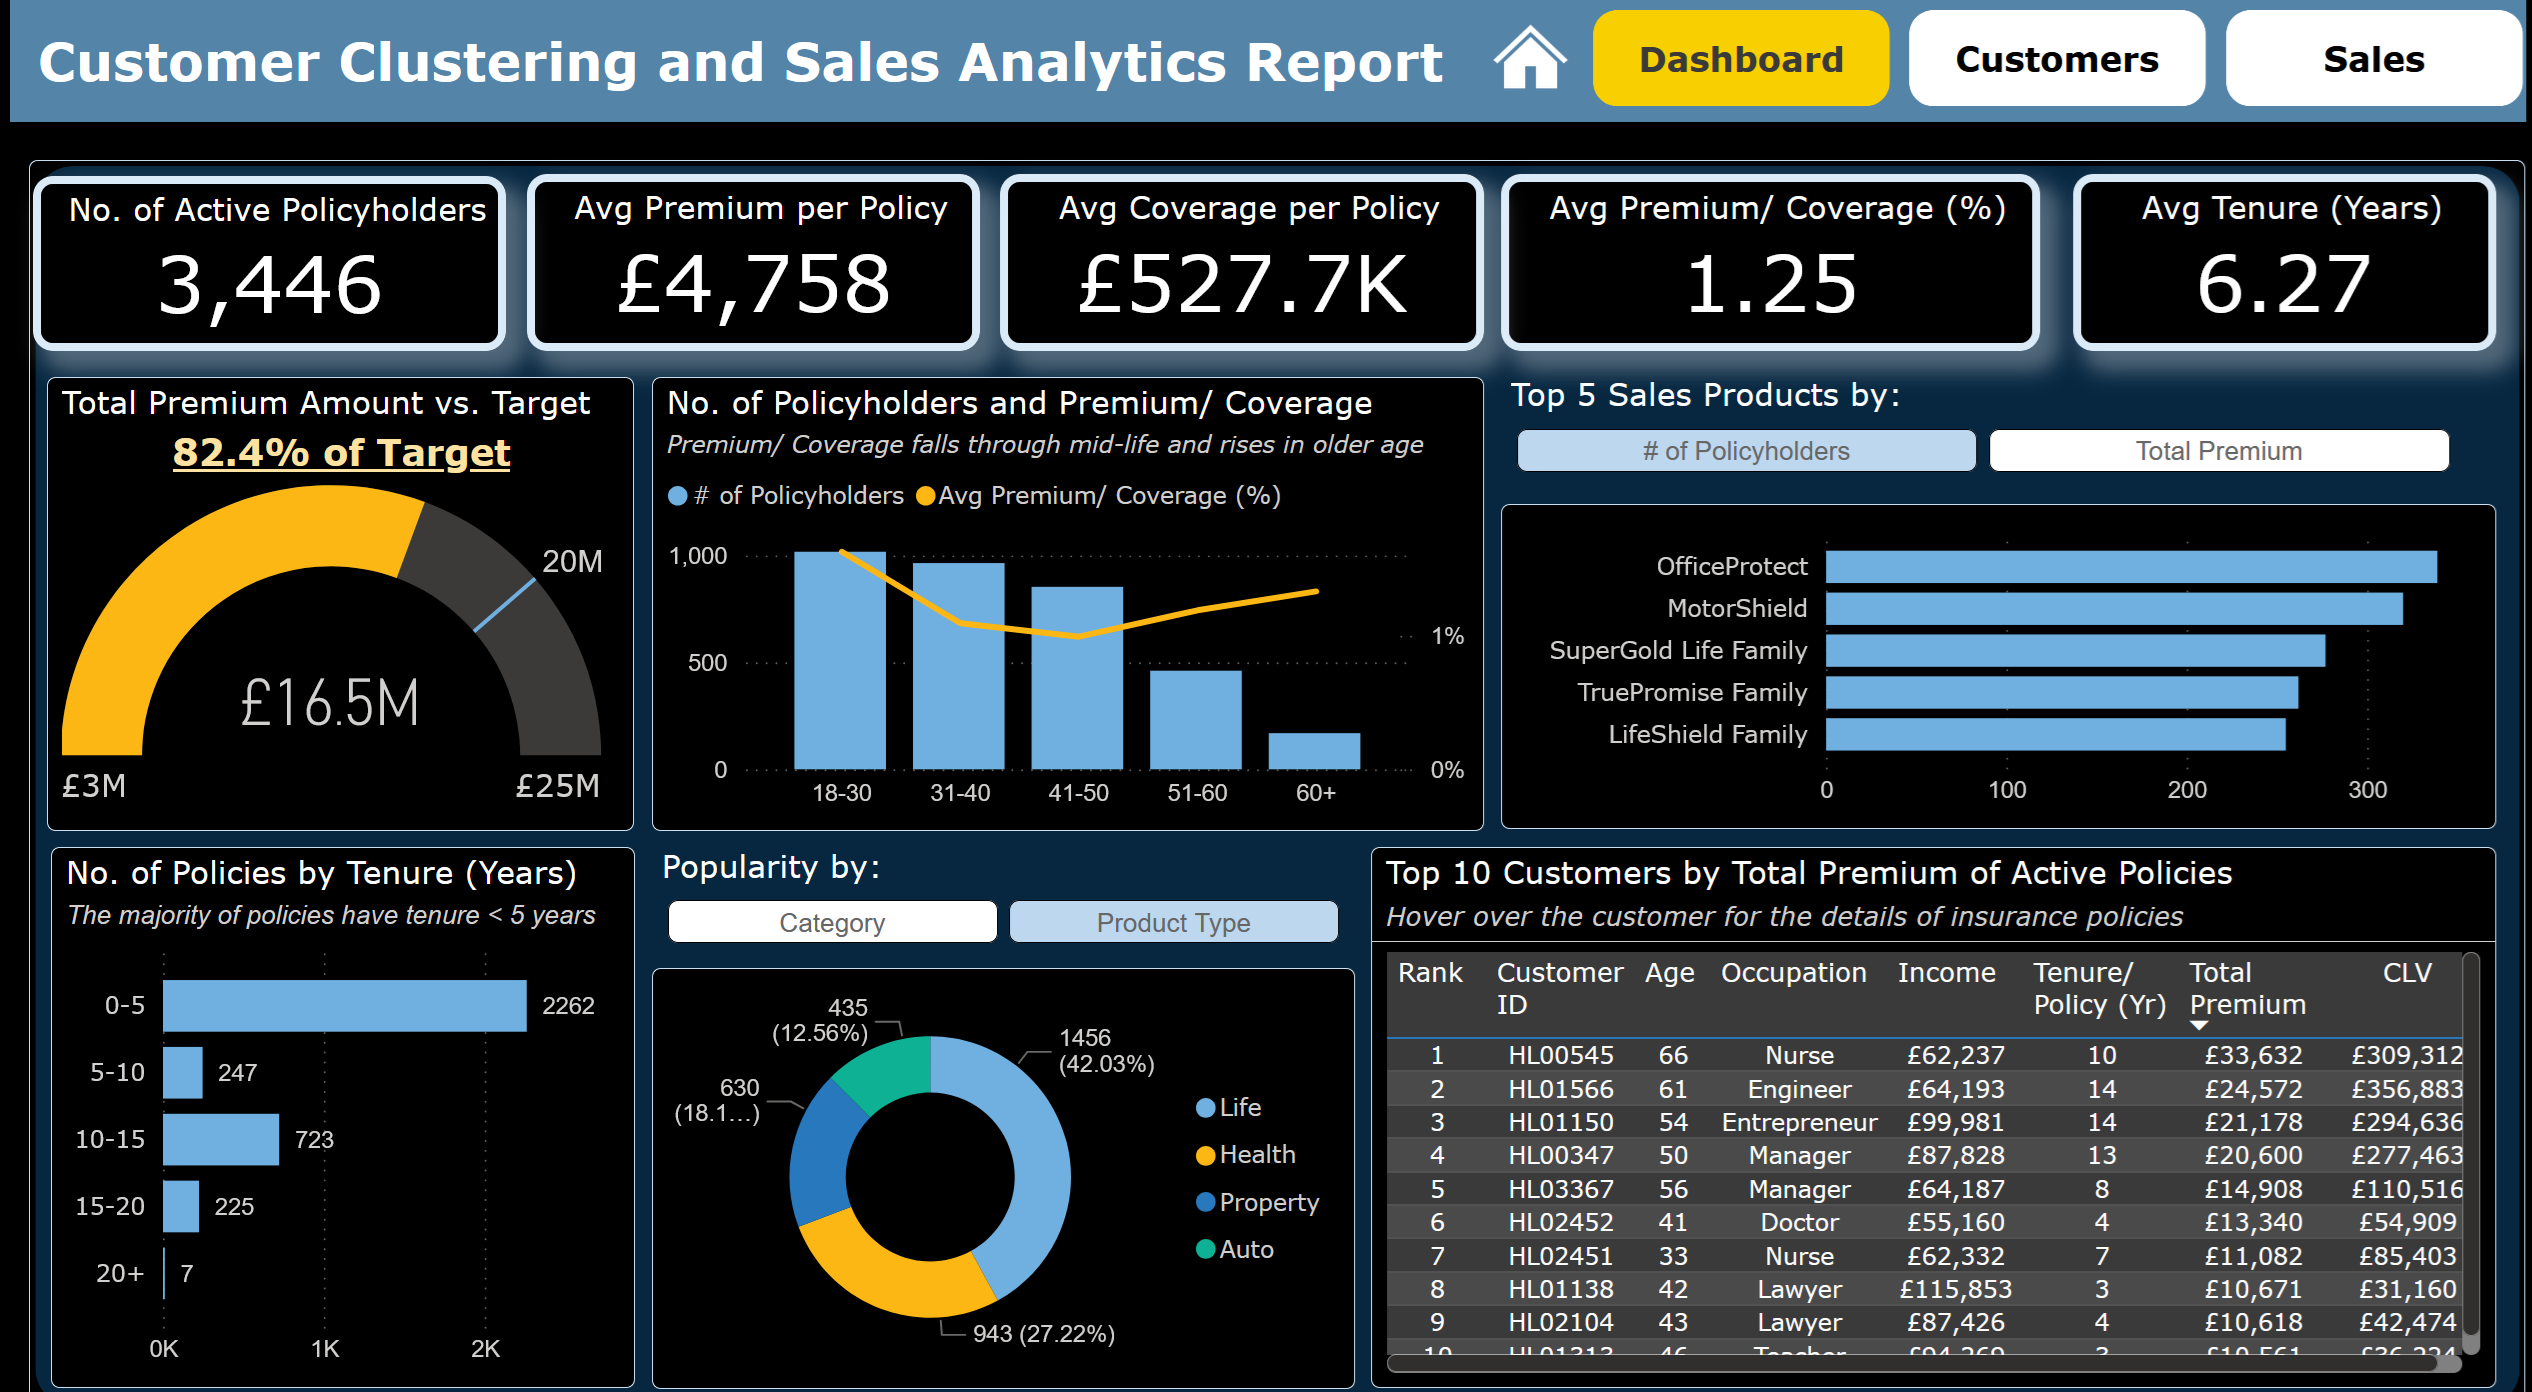

Layout of this report page (visuals, bound fields, positions):
{"tool":"powerbi","page":{"name":"Dashboard","canvas":[1280,720],"ordinal":1},"visuals":[{"type":"shape","box":[0,0,1280.2,64.1],"z":0},{"type":"shape","box":[10.3,83.3,1269.9,636.9],"z":1000},{"type":"clusteredBarChart","fields":{"Category":["top5_products.Product_Name"],"Y":["Sum(top5_products.Feature)"]},"box":[758.6,258.9,506.2,165.3],"z":2000},{"type":"donutChart","fields":{"Category":["product_popularity_cluster.Category"],"Y":["Sum(product_popularity_cluster.TotalCount)"]},"box":[326.8,494.7,357.5,214],"z":3000},{"type":"textbox","box":[8.7,11.9,764,52.1],"z":4000},{"type":"pageNavigator","box":[805.3,7.6,474.3,49.9],"z":5000},{"type":"card","title":"Avg Premium per Policy","fields":{"Values":["Sum(overall_stat.Avg_Premium)"]},"box":[262.7,91,230.7,89.7],"z":6000},{"type":"card","title":"Avg Premium/ Coverage (%)","fields":{"Values":["Sum(overall_stat.Avg_Premium_Coverage)"]},"box":[758.6,91,274.2,89.7],"z":7000},{"type":"card","title":"No. of Active Policyholders","fields":{"Values":["Sum(overall_stat.No_of_Customers)"]},"box":[11.9,91.2,240.9,89],"z":8000},{"type":"card","title":"Avg Tenure (Years)","fields":{"Values":["Sum(overall_stat.Avg_Tenure)"]},"box":[1049.5,91,215.3,89.7],"z":9000},{"type":"card","title":"Avg Coverage per Policy","fields":{"Values":["Sum(overall_stat.Avg_Coverage)"]},"box":[503.6,91,246,89.7],"z":10000},{"type":"ChicletSlicer1448559807354","title":"Popularity by: ","fields":{"Category":["product_popularity_cluster.Type"]},"box":[326.8,433.1,357.5,82],"z":11000},{"type":"clusteredBarChart","title":"No. of Policies by Tenure (Years)","fields":{"Category":["joined_all.Tenure_Gp"],"Y":["CountNonNull(joined_all.Policy_ID)"]},"box":[20.5,433.1,297.3,275.5],"z":12000},{"type":"tableEx","title":"Top 10 Customers by Total Premium of Active Policies","fields":{"Values":["Sum(top10_premium.Rank_Prem)","top10_premium.Customer_ID","Avg(top10_premium.Age)","top10_premium.Occupation","Avg(top10_premium.Income)","Avg(top10_premium.Tenure_Years)","top10_premium.top_prem","Sum(top10_premium.CLV)"]},"box":[692,433.1,572.8,275.5],"z":13000},{"type":"gauge","title":"Total Premium Amount vs. Target","fields":{"TargetValue":["joined_all.Premium_Target"],"Y":["joined_all.Total Premium"]},"box":[19.2,193.5,298.6,230.7],"z":14000},{"type":"ChicletSlicer1448559807354","title":"Top 5 Sales Products by: ","fields":{"Category":["top5_products.Type"]},"box":[758.6,193.2,490.5,67.3],"z":15000},{"type":"lineClusteredColumnComboChart","title":"No. of Policyholders and Premium/ Coverage ","fields":{"Category":["joined_all.Age_Group"],"Y":["CountNonNull(joined_all.Customer_ID)"],"Y2":["joined_all.Avg_Premium"]},"box":[326.8,193.5,422.9,230.7],"z":16000},{"type":"image","box":[746.7,3.3,53.2,54.3],"z":17000}]}

Visuals, with their boxes in screenshot pixels (x1, y1, x2, y2), scaled from the page's 1280x720 canvas onto the 2532x1392 screenshot:
shape: BBox(0, 0, 2531, 124)
shape: BBox(20, 161, 2531, 1391)
clusteredBarChart - top5_products.Product_Name x Sum(top5_products.Feature): BBox(1501, 501, 2502, 820)
donutChart - product_popularity_cluster.Category x Sum(product_popularity_cluster.TotalCount): BBox(646, 956, 1354, 1370)
textbox: BBox(17, 23, 1528, 124)
pageNavigator: BBox(1593, 15, 2531, 111)
"Avg Premium per Policy" card: BBox(520, 176, 976, 349)
"Avg Premium/ Coverage (%)" card: BBox(1501, 176, 2043, 349)
"No. of Active Policyholders" card: BBox(24, 176, 500, 348)
"Avg Tenure (Years)" card: BBox(2076, 176, 2502, 349)
"Avg Coverage per Policy" card: BBox(996, 176, 1483, 349)
"Popularity by: " ChicletSlicer1448559807354: BBox(646, 837, 1354, 996)
"No. of Policies by Tenure (Years)" clusteredBarChart: BBox(41, 837, 629, 1370)
"Top 10 Customers by Total Premium of Active Policies" tableEx: BBox(1369, 837, 2502, 1370)
"Total Premium Amount vs. Target" gauge: BBox(38, 374, 629, 820)
"Top 5 Sales Products by: " ChicletSlicer1448559807354: BBox(1501, 374, 2471, 504)
"No. of Policyholders and Premium/ Coverage " lineClusteredColumnComboChart: BBox(646, 374, 1483, 820)
image: BBox(1477, 6, 1582, 111)
